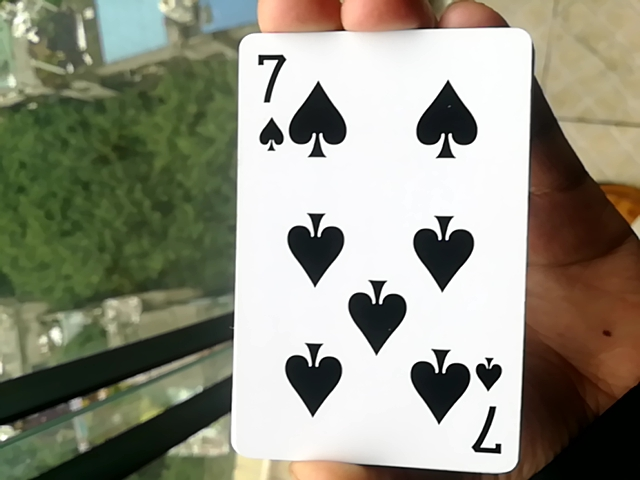ht 7: (222, 38, 549, 478)
